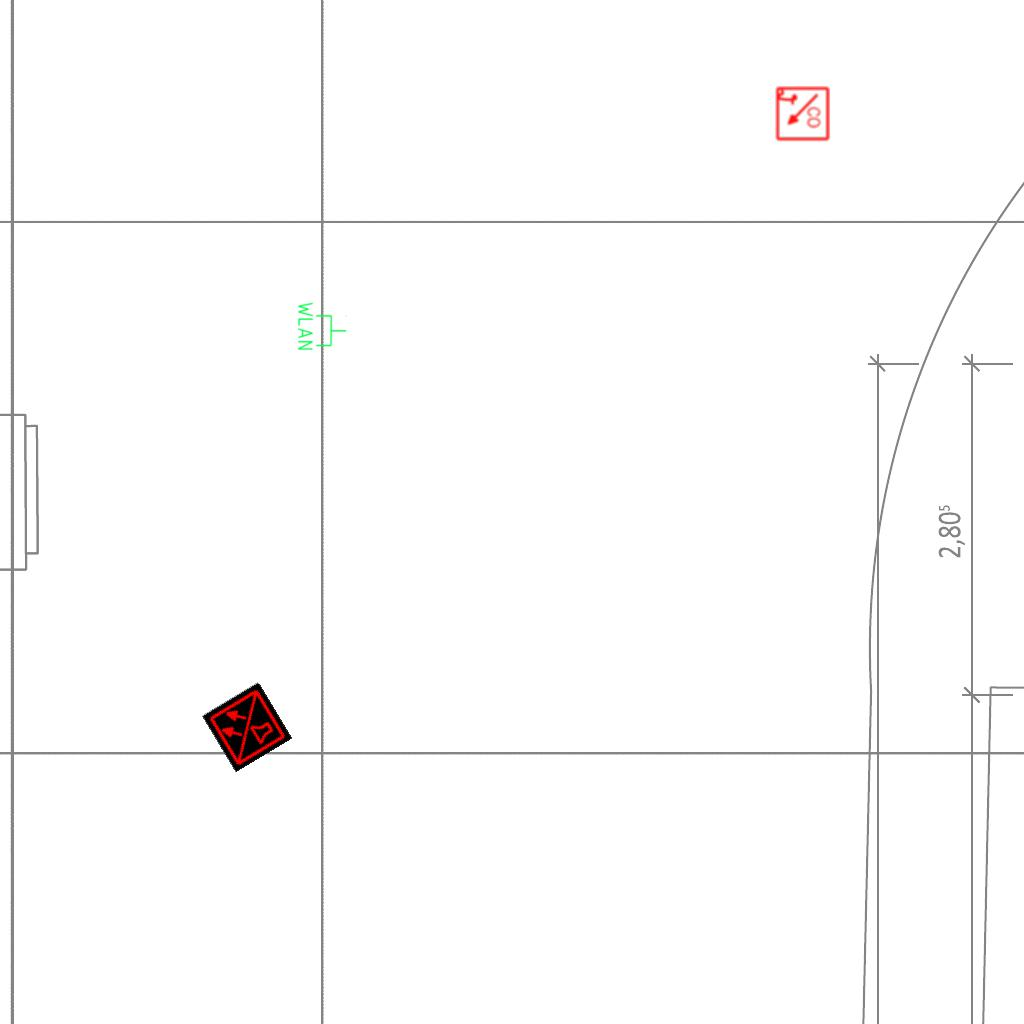OKW_Multisensormelder_(Kombination_optischer_Rauch-Kahlenmonoxid_Waerme-Melder): (201, 681, 293, 773)
ROA_Rauchmelder_optisch_mit_Signalgeber_(Sockelsirene): (774, 86, 830, 142)
WLAN: (296, 300, 348, 352)
